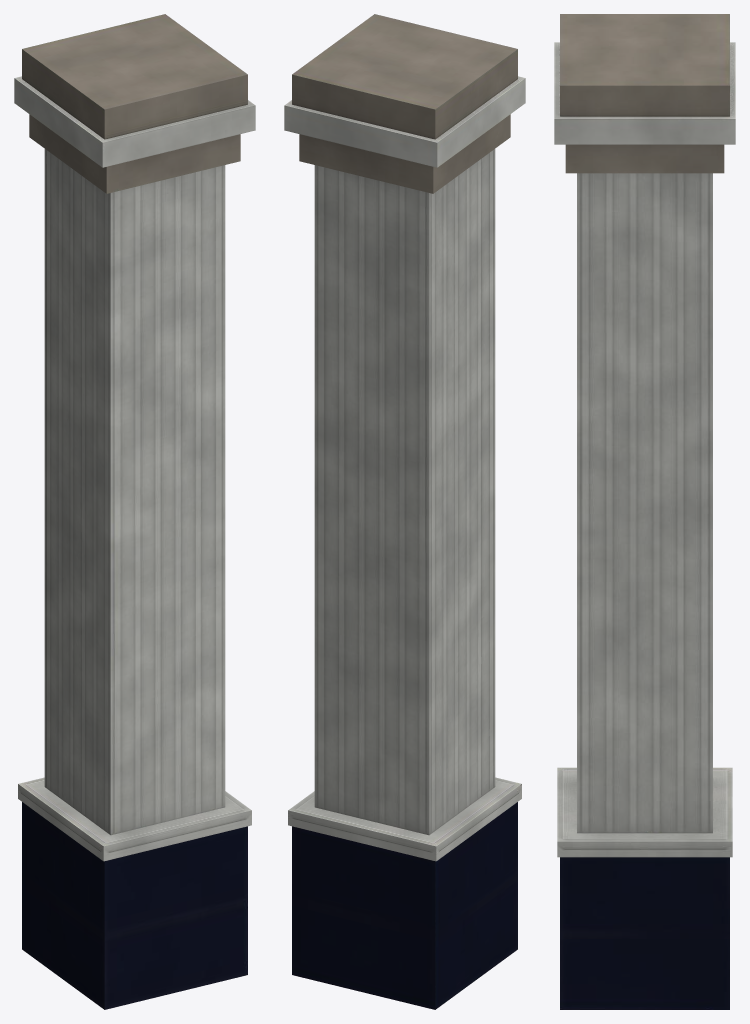
Rendered from charter_pillar.glb.
The picture shows the model from 3 angles, left to right: view 1: azimuth 30°, elevation 25°; view 2: azimuth 150°, elevation 25°; view 3: azimuth 270°, elevation 25°; orthographic projection. The views are drawn at different scales.
Visible parts, largest first — view 1: charter_pillar; view 2: charter_pillar; view 3: charter_pillar.
Part boxes in pixels (x1=…): charter_pillar: x1=14, y1=14, x2=255, y2=1009; charter_pillar: x1=284, y1=14, x2=525, y2=1009; charter_pillar: x1=554, y1=14, x2=735, y2=1009.
Size of the model in its own units: 0.64 by 3.6 by 0.64.
Materials: 1 (1 with a texture image).
